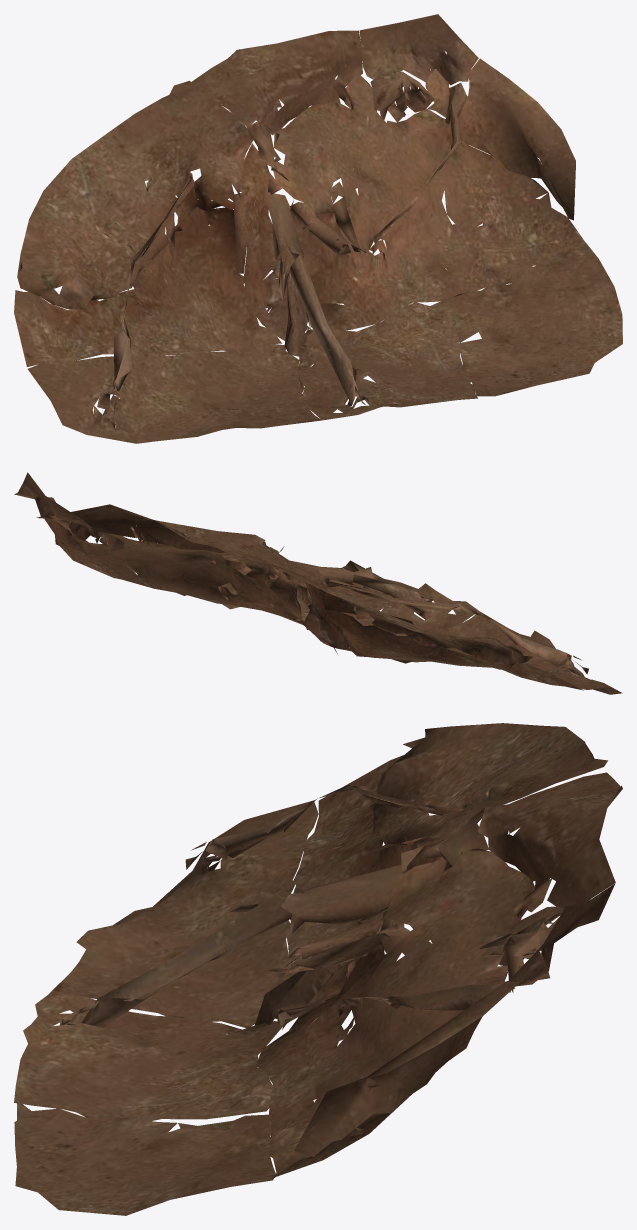
Rendered from root_cluster_01.glb.
The picture shows the model from 3 angles, top to bottom: view 1: azimuth 30°, elevation 25°; view 2: azimuth 150°, elevation 25°; view 3: azimuth 270°, elevation 25°; orthographic projection. The views are drawn at different scales.
Visible parts, largest first — view 1: root_cluster_01; view 2: root_cluster_01; view 3: root_cluster_01.
Part boxes in pixels (x1,y1,x2,y2): root_cluster_01: (14, 14, 622, 443); root_cluster_01: (14, 472, 622, 694); root_cluster_01: (14, 723, 622, 1215).
Size of the model in its own units: 4.12 by 1.53 by 2.68.
Materials: 1 (1 with a texture image).
